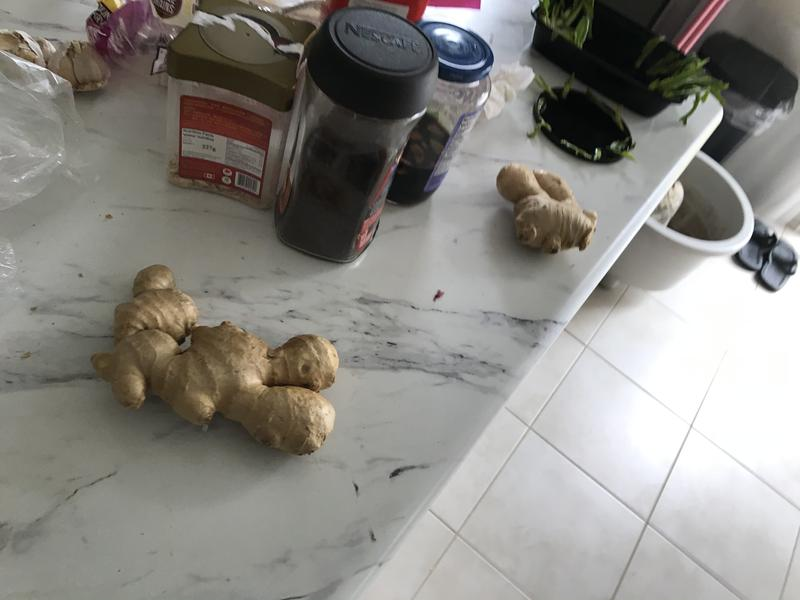ginger: (87, 258, 350, 461), (489, 158, 609, 255)
